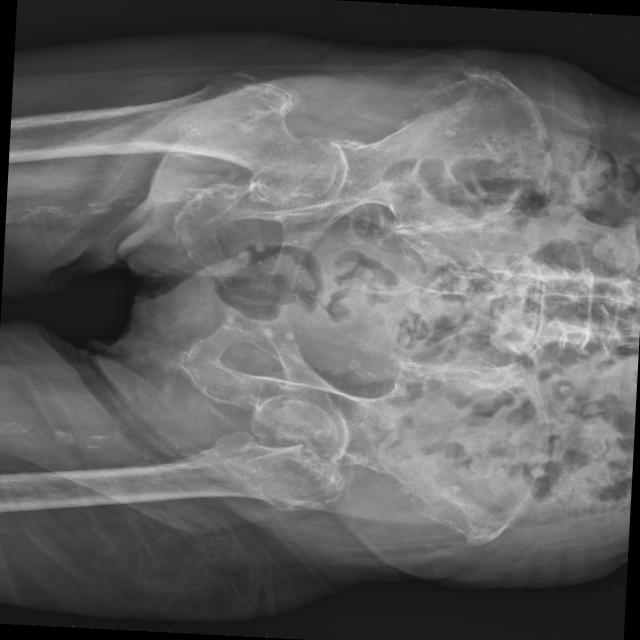left-neck: (135, 431, 344, 516), (250, 400, 336, 463)
right-neck: (92, 71, 335, 204)
